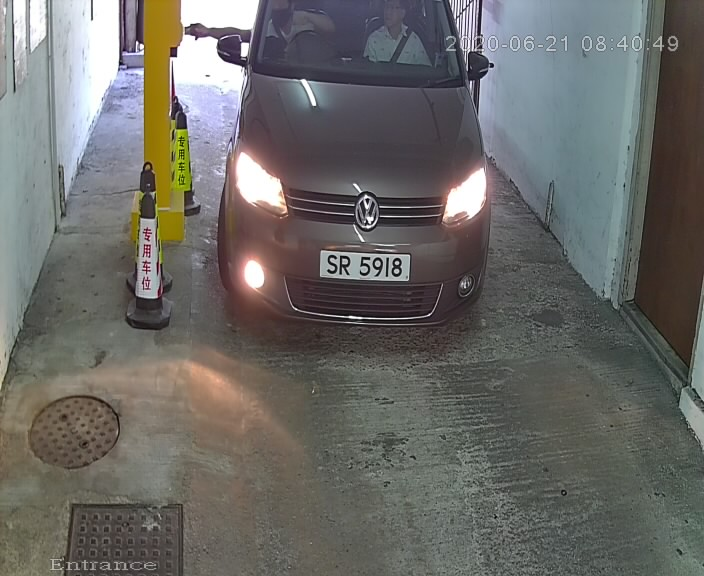privatecar: (202, 2, 521, 351)
